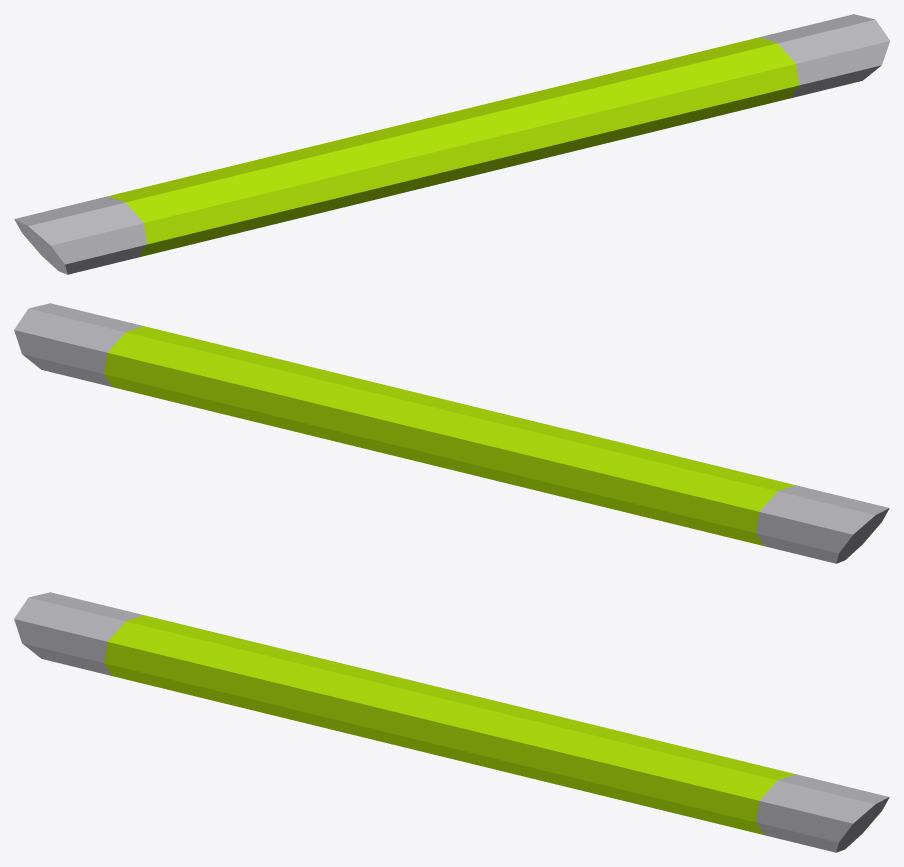
File: lamp.fbx
The picture shows the model from 3 angles, top to bottom: view 1: azimuth 30°, elevation 25°; view 2: azimuth 150°, elevation 25°; view 3: azimuth 330°, elevation 25°; orthographic projection.
Parts seen in each view (by area): view 1: Kostka; view 2: Kostka; view 3: Kostka.
Boxes of the visible parts, left/top/right/bottom form: Kostka: left=14, top=14, right=889, bottom=274; Kostka: left=14, top=303, right=889, bottom=563; Kostka: left=14, top=592, right=889, bottom=852.
Bounding box in the file's own units: 3097 × 183 × 273.
